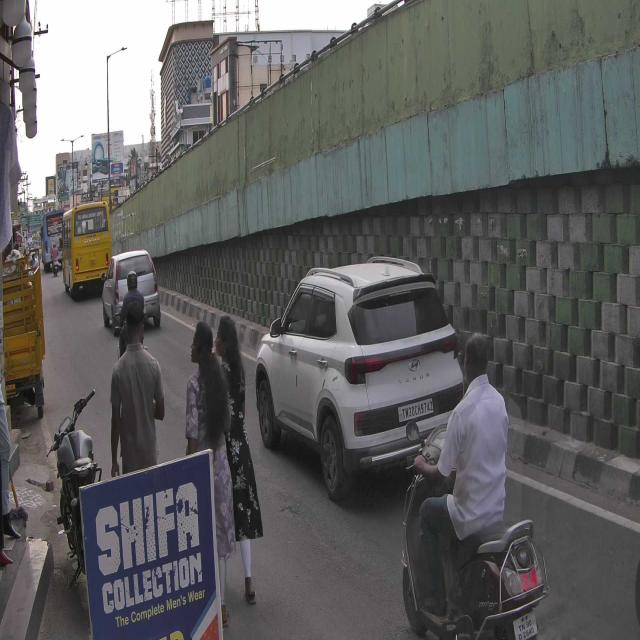single_rider: (398, 326, 549, 640)
